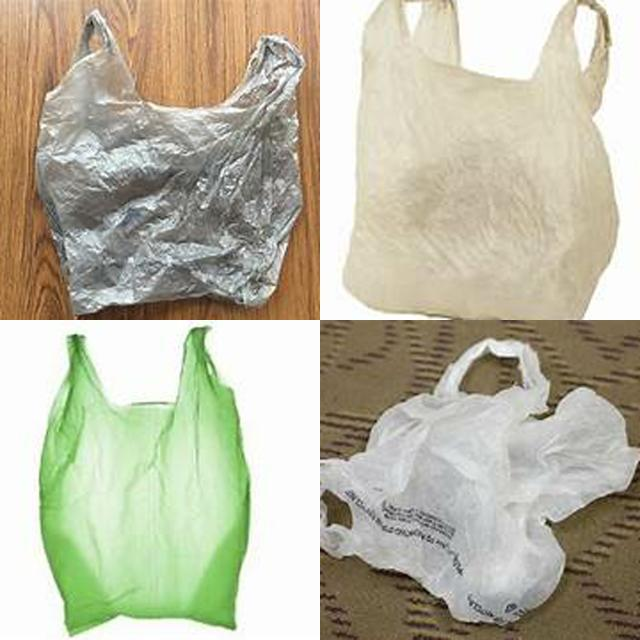Single-layer Plastic: (321, 339, 640, 625), (345, 0, 618, 319), (36, 11, 304, 315), (40, 328, 249, 633)
